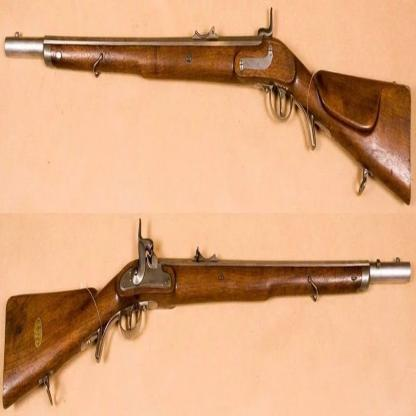gun: (2, 207, 413, 416), (1, 0, 416, 194)
